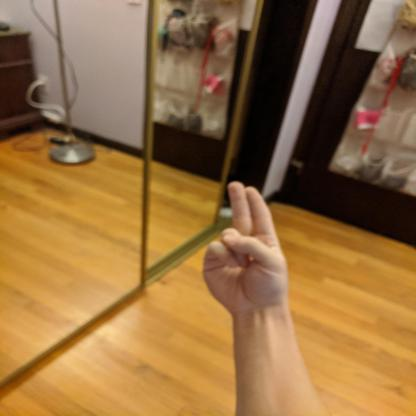U: (203, 180, 292, 319)
